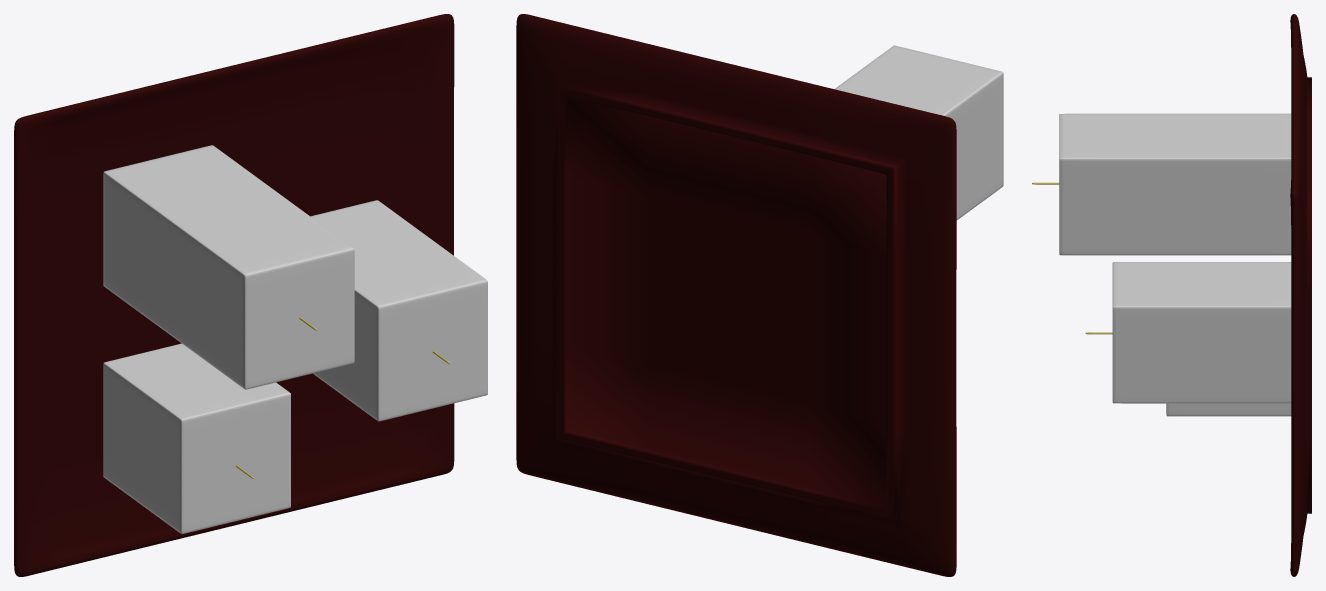
The model's file is Candle_Garden_Base.fbx.
The picture shows the model from 3 angles, left to right: view 1: azimuth 30°, elevation 25°; view 2: azimuth 150°, elevation 25°; view 3: azimuth 270°, elevation 25°; orthographic projection. The views are drawn at different scales.
Parts seen in each view (by area): view 1: Cube, Cube_003, Cube_001, Cube_002; view 2: Cube, Cube_003; view 3: Cube_003, Cube_002, Cube, Cube_001.
Part boxes in pixels (x1=…): Cube: x1=14, y1=14, x2=454, y2=576; Cube_003: x1=103, y1=145, x2=354, y2=389; Cube_001: x1=103, y1=343, x2=290, y2=533; Cube_002: x1=310, y1=200, x2=487, y2=421; Cube: x1=516, y1=14, x2=956, y2=576; Cube_003: x1=834, y1=45, x2=1003, y2=220; Cube_003: x1=1059, y1=113, x2=1291, y2=255; Cube_002: x1=1112, y1=262, x2=1291, y2=403; Cube: x1=1290, y1=14, x2=1311, y2=576; Cube_001: x1=1166, y1=403, x2=1291, y2=416.
Bounding box in the file's own units: 0.2395 × 0.2395 × 0.1567.
